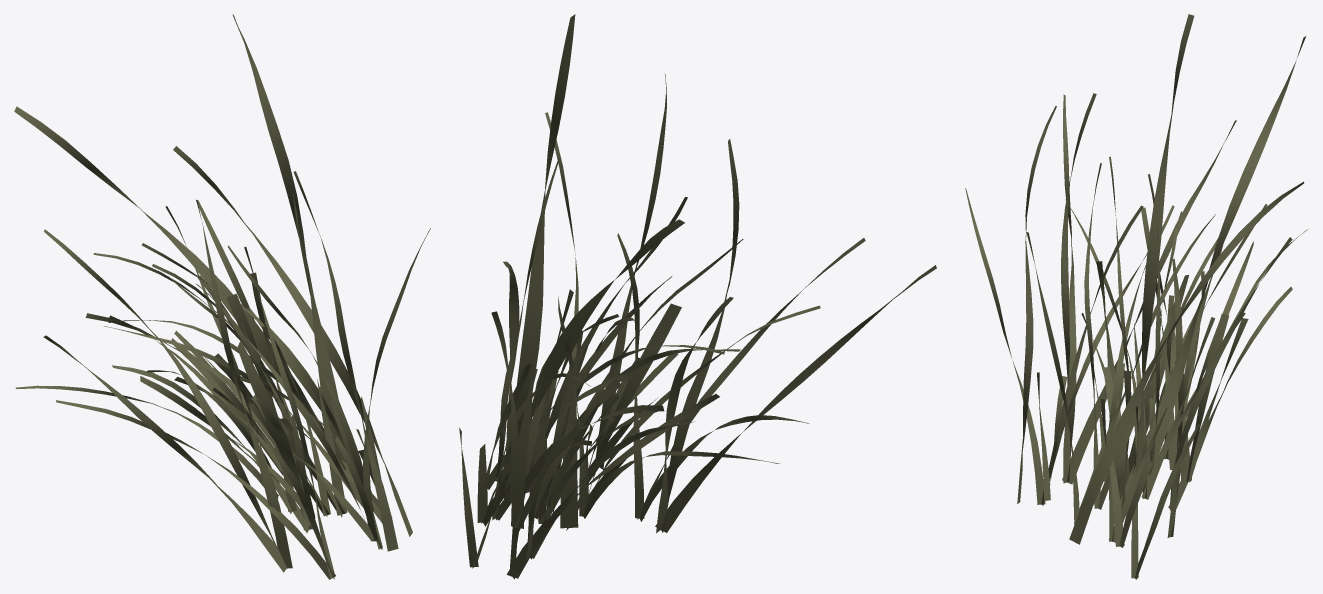
The model's file is Grass1Animated.fbx.
3 renders of one model, left to right at view 1: azimuth 30°, elevation 25°; view 2: azimuth 150°, elevation 25°; view 3: azimuth 270°, elevation 25°, orthographic. The views are drawn at different scales.
Visible parts, largest first — view 1: grassClump27Main; view 2: grassClump27Main; view 3: grassClump27Main.
Part boxes in pixels (box(x1,y1,x2,y2)): grassClump27Main: box(14, 14, 430, 579); grassClump27Main: box(459, 14, 936, 579); grassClump27Main: box(965, 14, 1307, 579).
Bounding box in the file's own units: 0.8694 × 1.19 × 0.7268.
